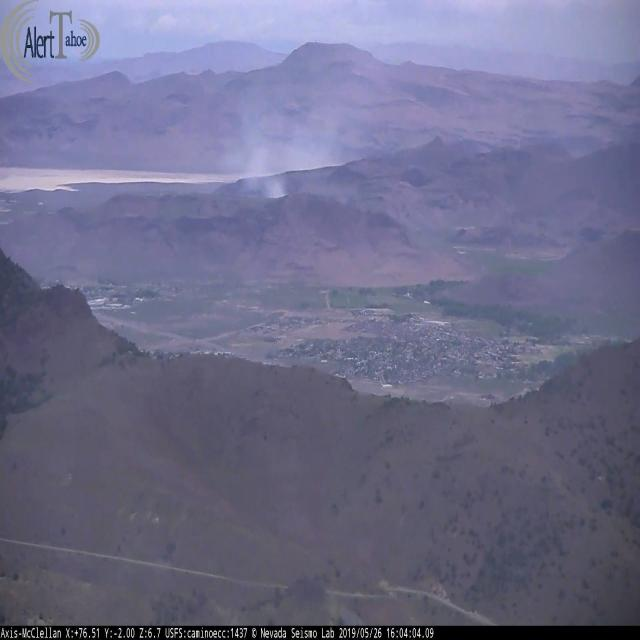smoke: (246, 154, 288, 202)
